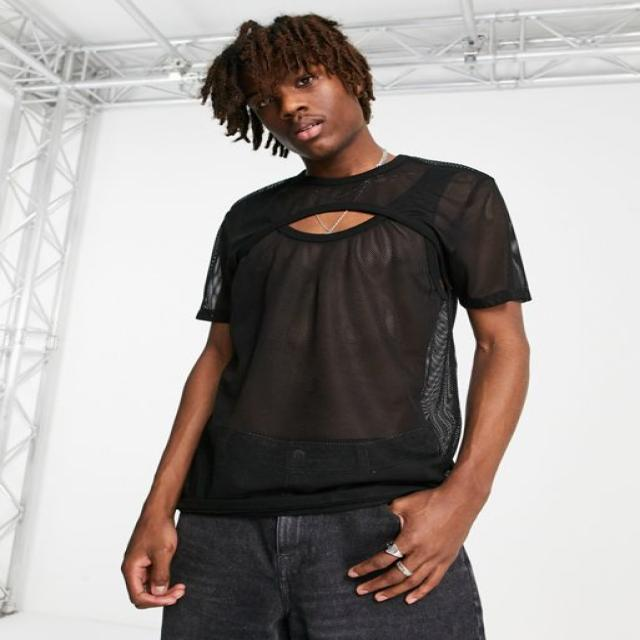tshirt: (178, 153, 530, 514)
